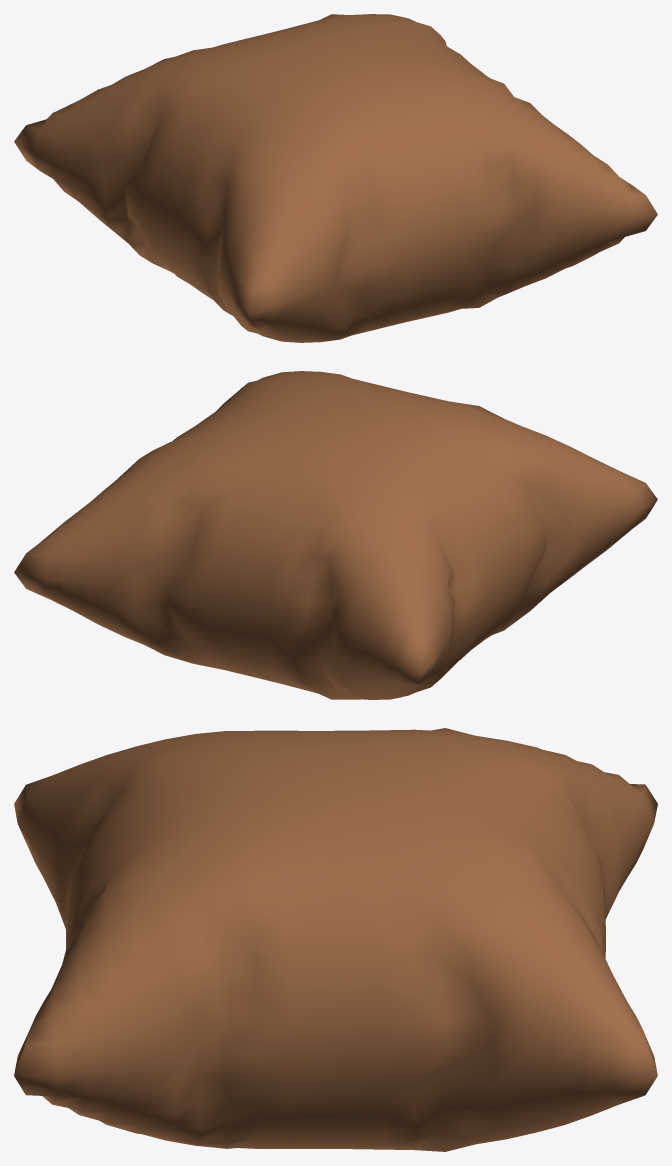
File: pillow.fbx
3 renders of one model, top to bottom at view 1: azimuth 30°, elevation 25°; view 2: azimuth 150°, elevation 25°; view 3: azimuth 270°, elevation 25°, orthographic. The views are drawn at different scales.
Visible parts, largest first — view 1: Plane; view 2: Plane; view 3: Plane.
Part boxes in pixels (x1,y1,x2,y2): Plane: [14, 14, 657, 342]; Plane: [14, 371, 657, 699]; Plane: [14, 728, 657, 1151].
Bounding box in the file's own units: 195 × 109 × 195.
